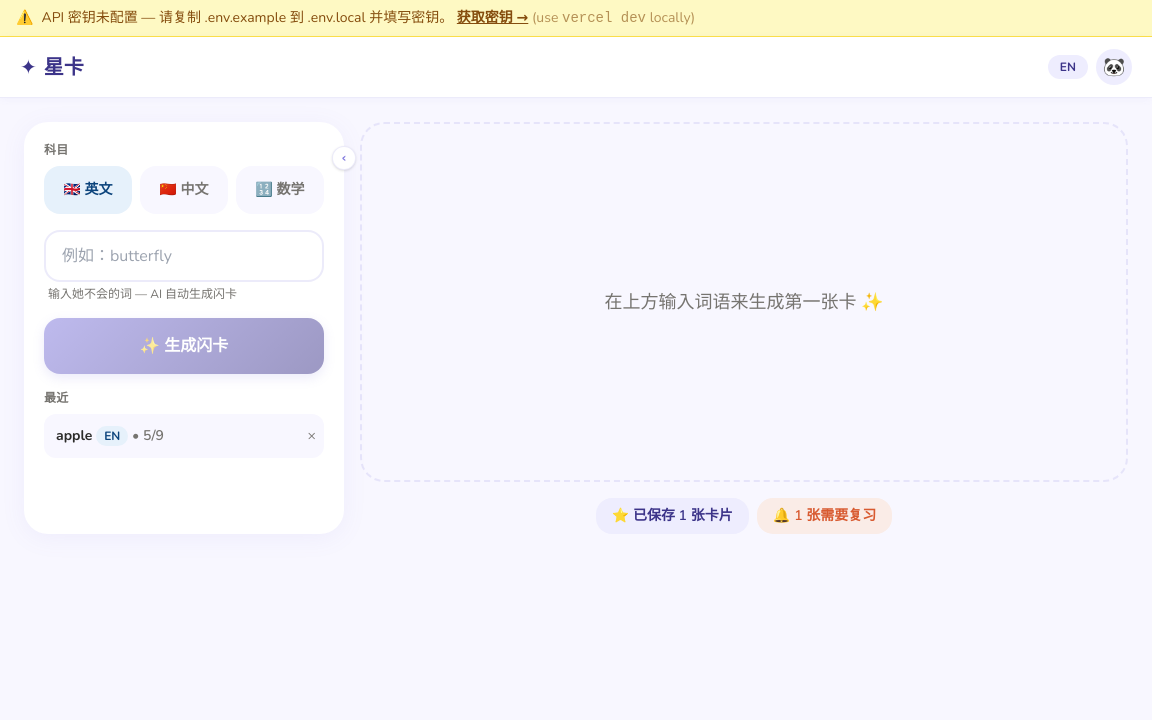
Test: App handleDeleteCard › clears currentCard when the currently-displayed card is deleted
# Load the card — the chip load button has aria-label of the word
Step 1. Click the button labelled "apple EN • 5/9" → (170, 436), box x1=44 y1=418 x2=296 y2=454
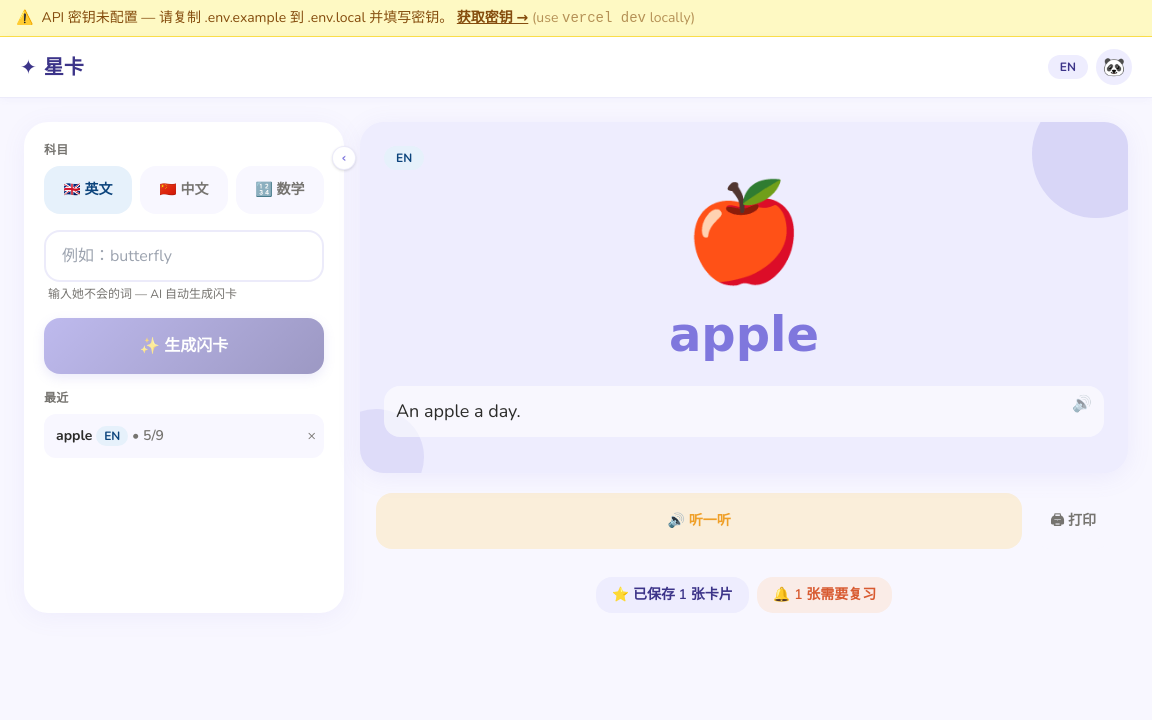
# Delete via the × button
Step 2. Click the button named "Delete apple" → (312, 436), box x1=300 y1=422 x2=324 y2=450
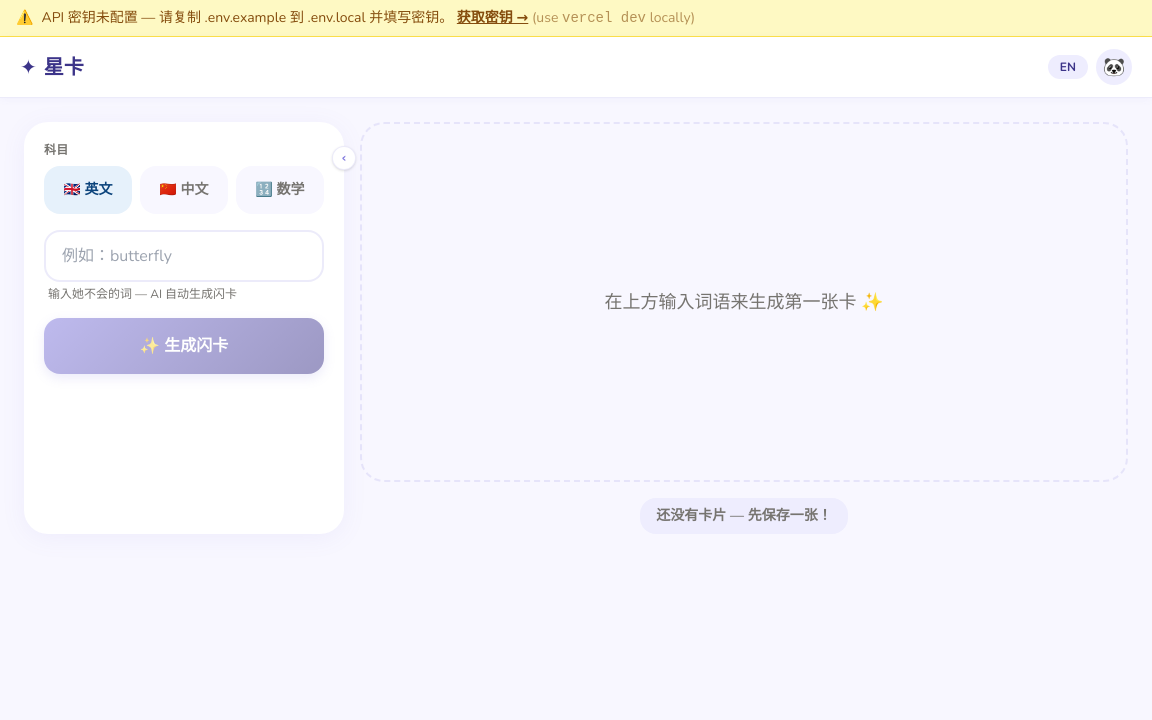
expect no buttons labelled "Delete apple" are shown: met
